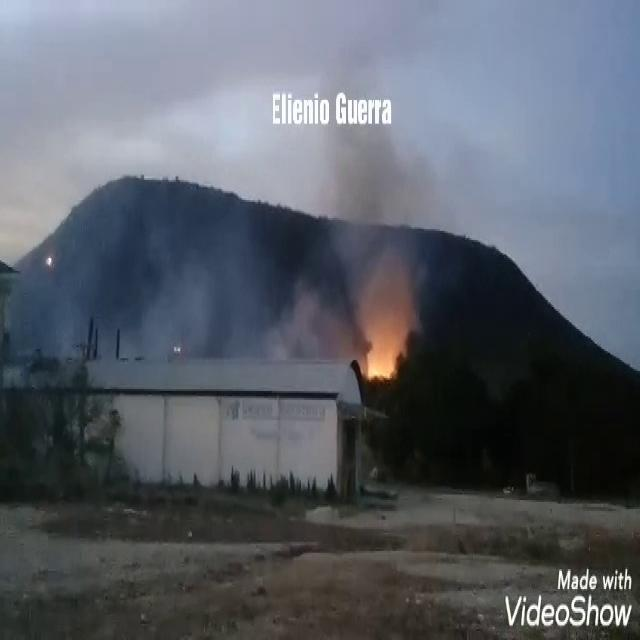Fire: (360, 356, 399, 384)
Smoke: (8, 7, 422, 384), (3, 224, 216, 396), (251, 256, 331, 364)
